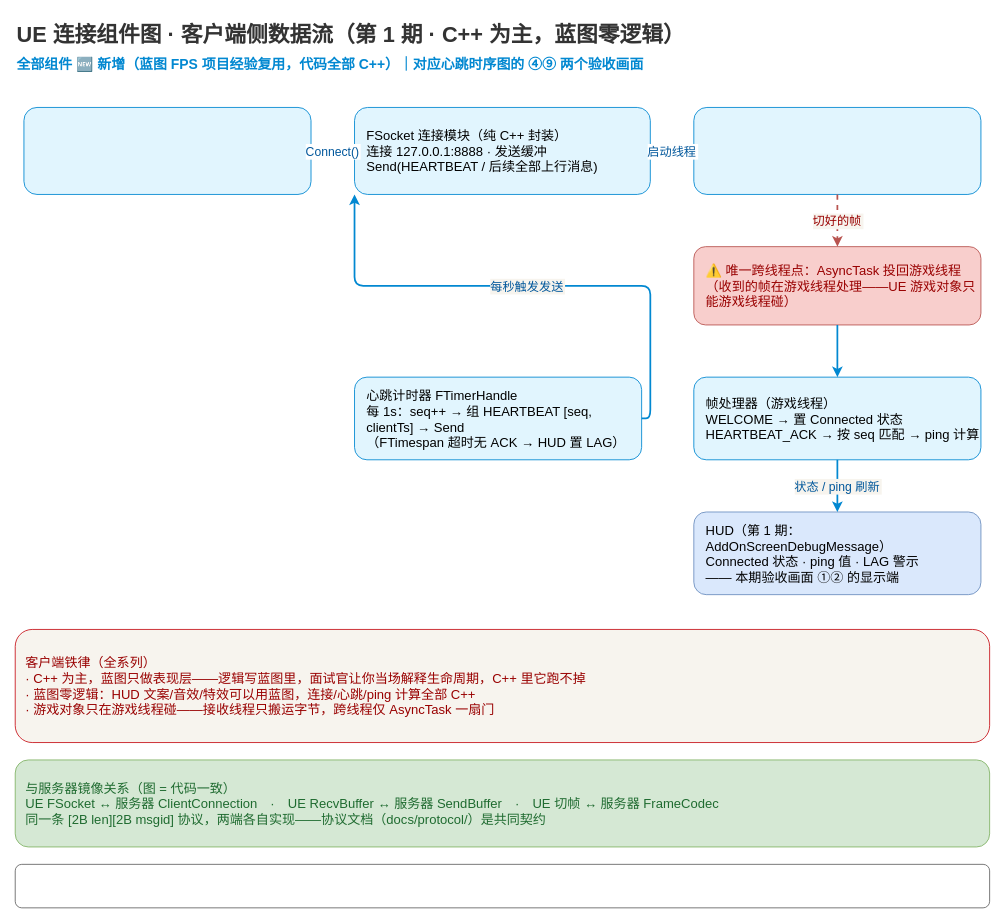
Some shapes in this 1005 by 923 pixel diagram are drawn without their labels. Here are the shapes that lost their labels. From the top down, the centre of each, then its label:
point (167, 150): USightlineGameInstance 生命周期锚点（切关卡不死） Connect() / Disconnect() / OnConnected 委托
point (837, 150): 接收线程 FRunnable 阻塞 recv → RecvBuffer → 按帧头切帧 不碰任何游戏对象（纯字节搬运）
point (502, 885): 图例 蓝 = 第 1 期新增（全部） 红 = 跨线程点（唯一） 米白 = 铁律/规范 数据流：左 → 右（连接）+ 环（心跳往返）
